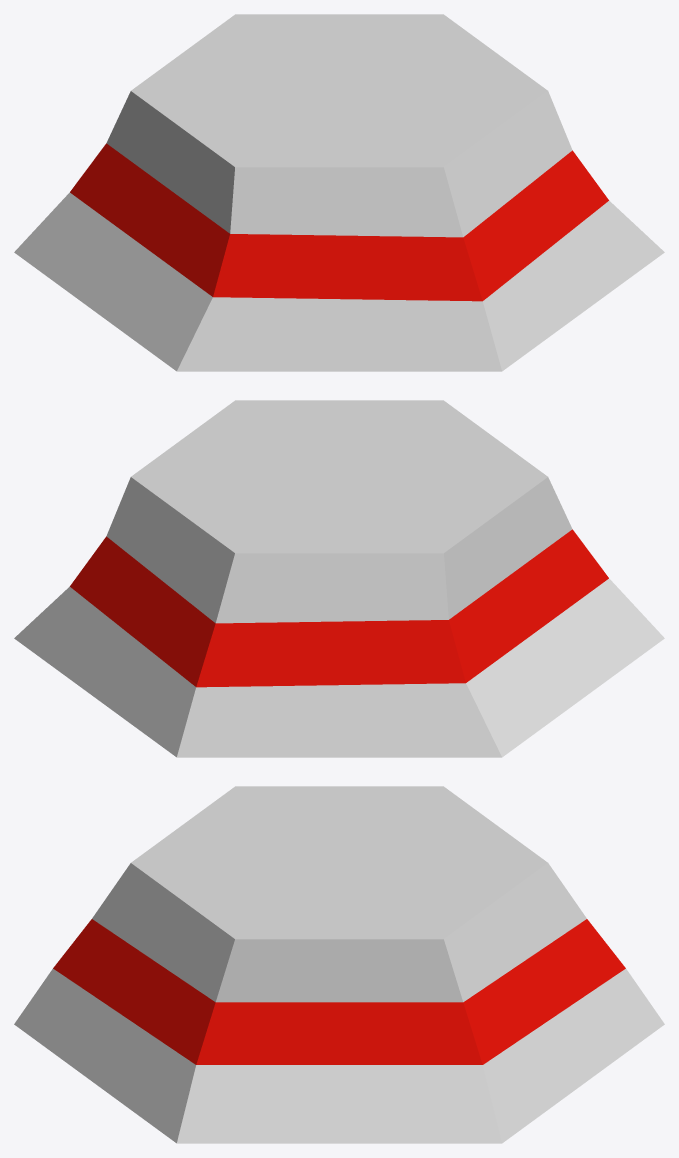
The model's file is BaseHex.fbx.
The picture shows the model from 3 angles, top to bottom: view 1: azimuth 30°, elevation 25°; view 2: azimuth 150°, elevation 25°; view 3: azimuth 270°, elevation 25°; orthographic projection.
Visible parts, largest first — view 1: BaseHex; view 2: BaseHex; view 3: BaseHex.
Part boxes in pixels (x1,y1,x2,y2): BaseHex: (14, 14, 664, 371); BaseHex: (14, 400, 664, 757); BaseHex: (14, 786, 664, 1143).
Size of the model in its own units: 63.26 by 20 by 73.04.
